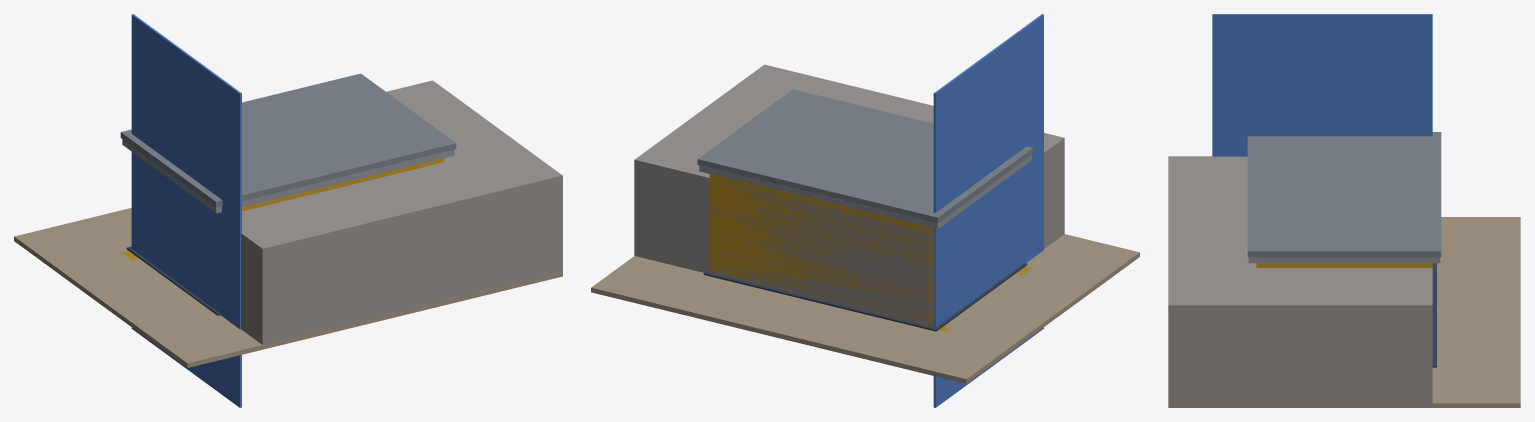
Rendered from stage_05_bands.glb.
3 views of the same model, side by side, from view 1: azimuth 30°, elevation 25°; view 2: azimuth 150°, elevation 25°; view 3: azimuth 270°, elevation 25° (orthographic).
Visible parts, largest first — view 1: world; view 2: world; view 3: world.
Boxes of the visible parts, x1,y1,x2,y2 form: world: (14,14,562,407); world: (591,14,1139,407); world: (1168,14,1520,407).
Size of the model in its own units: 10 by 8 by 8.
